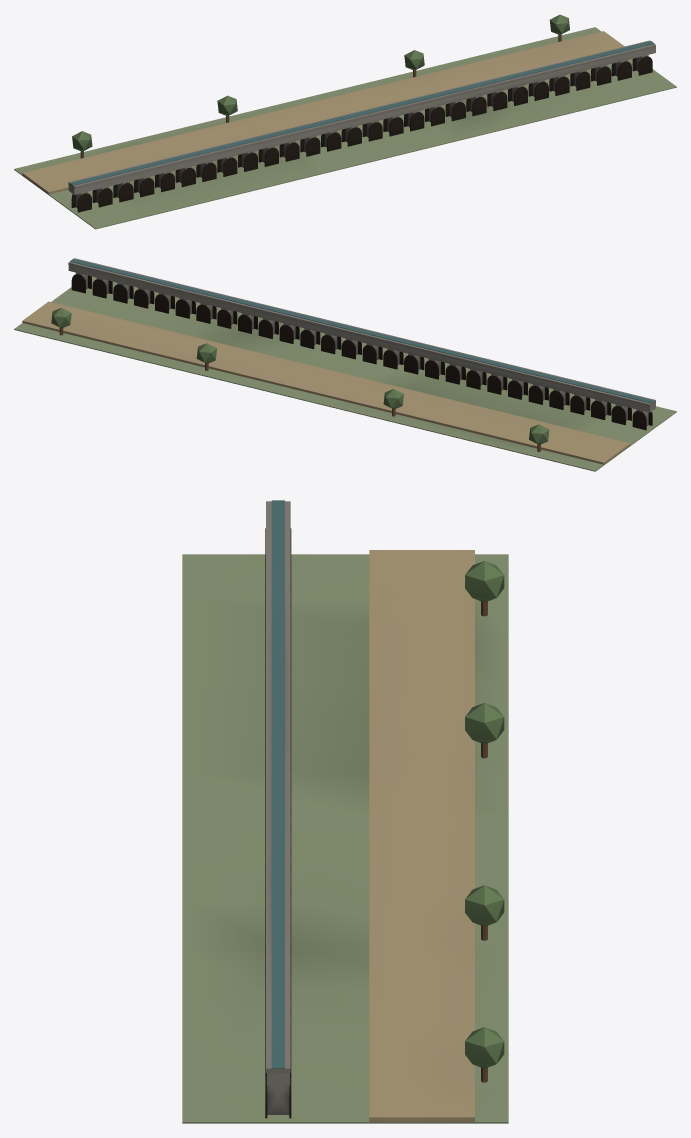
Rendered from aqueduct-1620.glb.
3 views of the same model, one above another, from view 1: azimuth 30°, elevation 25°; view 2: azimuth 150°, elevation 25°; view 3: azimuth 270°, elevation 25° (orthographic). The views are drawn at different scales.
Parts seen in each view (by area): view 1: p0_ground, p1_arcade, p2_channel; view 2: p0_ground, p1_arcade, p2_channel; view 3: p0_ground, p2_channel, p1_arcade.
Boxes of the visible parts, x1,y1,x2,y2 form: p0_ground: (14, 27, 676, 229); p1_arcade: (68, 47, 655, 212); p2_channel: (68, 14, 655, 188); p0_ground: (14, 276, 676, 471); p1_arcade: (68, 265, 655, 430); p2_channel: (51, 258, 655, 451); p0_ground: (182, 550, 508, 1123); p2_channel: (266, 500, 504, 1082); p1_arcade: (265, 528, 291, 1118).
Size of the model in its own units: 140 by 6.44 by 34.
